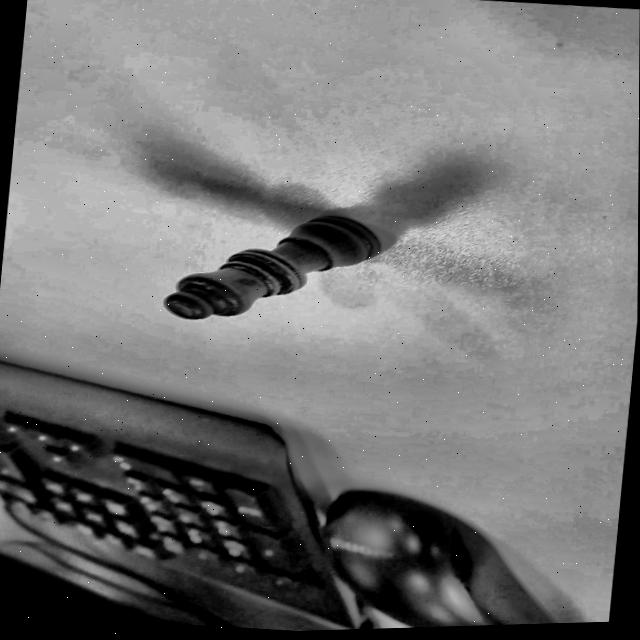black-queen: (157, 190, 406, 348)
